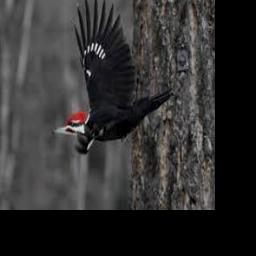Woodpecker: (51, 0, 174, 153)
